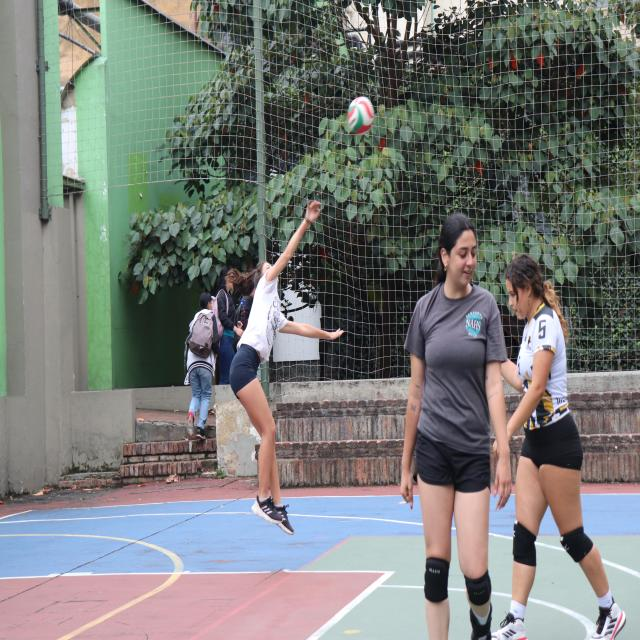volleyball: (347, 96, 374, 136)
